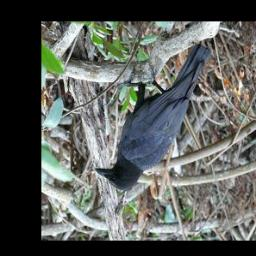Crow: (93, 39, 212, 192)
